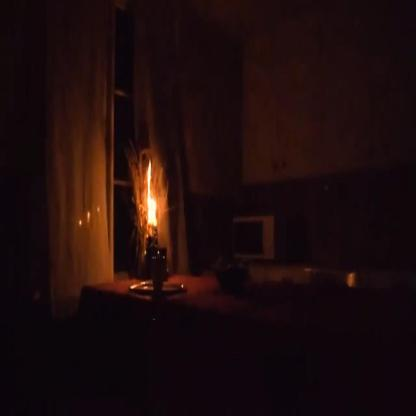fire: (141, 152, 162, 230)
